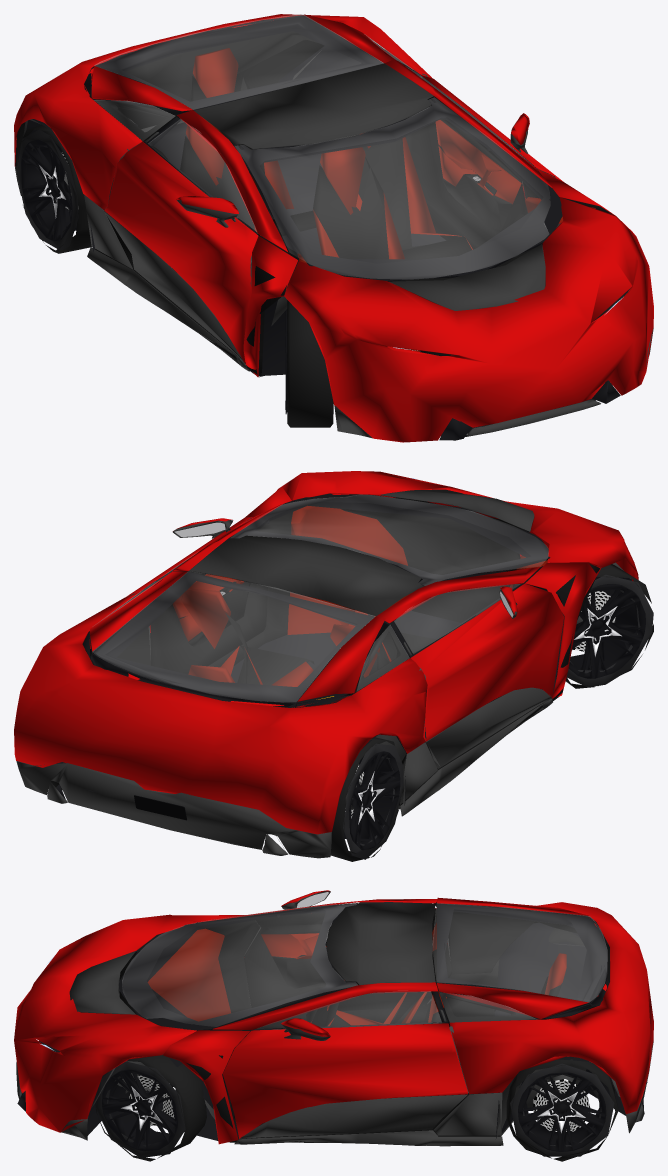
Rendered from concept_car.glb.
3 renders of one model, top to bottom at view 1: azimuth 30°, elevation 25°; view 2: azimuth 150°, elevation 25°; view 3: azimuth 270°, elevation 25°, orthographic. The views are drawn at different scales.
Visible parts, largest first — view 1: BodyRearPanelsColor1, BodyWindshield, BodyWindshieldGasket, BodyRoofPanel, InteriorDashMid, InteriorDashSides, InteriorSeatsColor2, object 18, WheelFrontLRim, InteriorMid; view 2: BodyRearPanelsColor1, BodyWindshield, BodyRoofPanel, BodyWindshieldGasket, InteriorDashMid, InteriorDashSides, WheelFrontLRim, object 18, InteriorMid, InteriorSeatsColor2, BodyUnderside, License Plate (+1 smaller); view 3: BodyRearPanelsColor1, BodyWindshield, BodyRoofPanel, BodyWindshieldGasket, InteriorDashMid, WheelFrontLRim, object 18, InteriorDashSides, InteriorMid, InteriorSeatsColor2, BodyUnderside, WheelFrontLBrakeDisc.
Part boxes in pixels (bbox=[...]): BodyRearPanelsColor1: bbox=[14, 14, 653, 442]; BodyWindshield: bbox=[94, 14, 550, 279]; BodyWindshieldGasket: bbox=[25, 15, 629, 440]; BodyRoofPanel: bbox=[15, 63, 653, 438]; InteriorDashMid: bbox=[15, 27, 535, 355]; InteriorDashSides: bbox=[186, 48, 595, 351]; InteriorSeatsColor2: bbox=[180, 68, 471, 259]; object 18: bbox=[16, 125, 623, 427]; WheelFrontLRim: bbox=[21, 139, 333, 414]; InteriorMid: bbox=[92, 169, 612, 375]; BodyRearPanelsColor1: bbox=[14, 471, 638, 834]; BodyWindshield: bbox=[92, 494, 548, 702]; BodyRoofPanel: bbox=[16, 489, 552, 858]; BodyWindshieldGasket: bbox=[56, 493, 631, 847]; InteriorDashMid: bbox=[85, 497, 529, 744]; InteriorDashSides: bbox=[172, 505, 547, 686]; WheelFrontLRim: bbox=[344, 584, 645, 850]; object 18: bbox=[50, 564, 653, 861]; InteriorMid: bbox=[208, 512, 599, 807]; InteriorSeatsColor2: bbox=[225, 613, 437, 696]; BodyUnderside: bbox=[47, 516, 631, 855]; License Plate: bbox=[134, 795, 186, 820]; BodyRearPanelsColor1: bbox=[14, 890, 653, 1144]; BodyWindshield: bbox=[122, 902, 607, 1029]; BodyRoofPanel: bbox=[16, 891, 653, 1146]; BodyWindshieldGasket: bbox=[17, 902, 647, 1140]; InteriorDashMid: bbox=[119, 905, 609, 1064]; WheelFrontLRim: bbox=[102, 1069, 606, 1151]; object 18: bbox=[95, 928, 618, 1161]; InteriorDashSides: bbox=[147, 922, 566, 1026]; InteriorMid: bbox=[186, 917, 500, 1142]; InteriorSeatsColor2: bbox=[306, 949, 561, 1027]; BodyUnderside: bbox=[87, 920, 644, 1138]; WheelFrontLBrakeDisc: bbox=[129, 1075, 590, 1131].
Size of the model in its own units: 2.54 by 1.14 by 4.35.
Materials: 20 (1 with a texture image).
